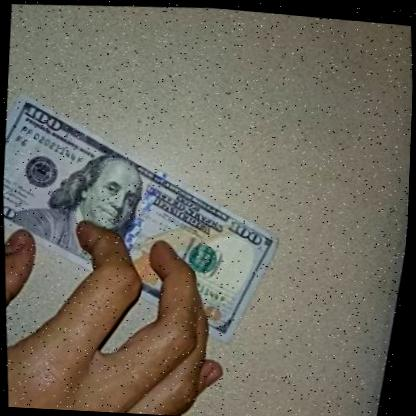one_hundred-front: (0, 73, 306, 369)
